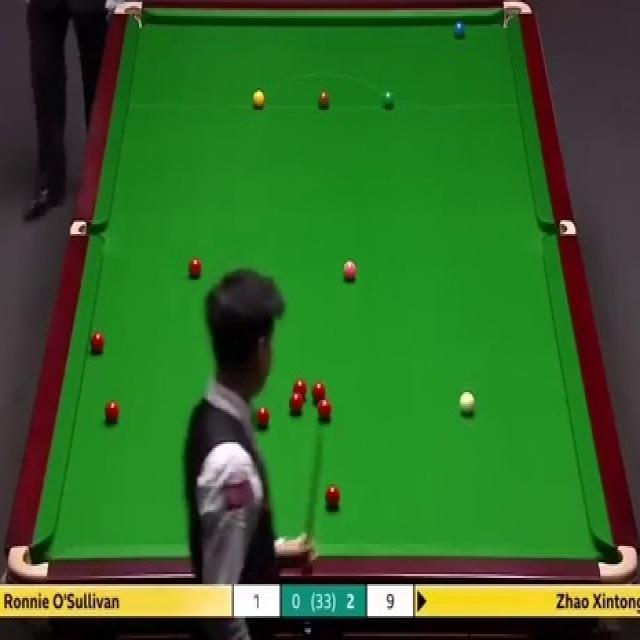blue-ball: (452, 19, 466, 39)
brown-ball: (317, 90, 330, 109)
green-ball: (381, 90, 394, 109)
pink-ball: (342, 262, 358, 284)
red-ball: (102, 398, 119, 423), (317, 396, 331, 421), (327, 485, 340, 511), (90, 331, 104, 355), (255, 404, 269, 428), (290, 394, 305, 415), (292, 378, 307, 399), (312, 381, 326, 403), (188, 260, 202, 278)
white-ball: (457, 390, 475, 417)
yellow-ball: (252, 90, 265, 109)
